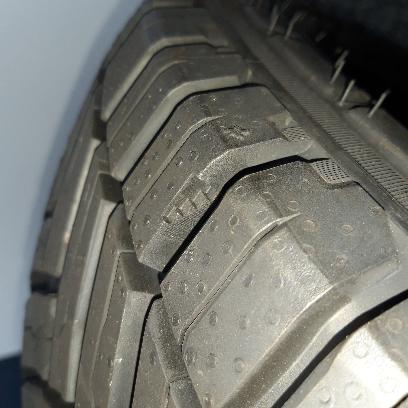temoin:100: (154, 170, 224, 246)
